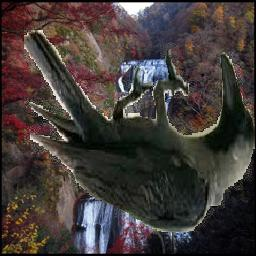Crow: (25, 30, 256, 232)
